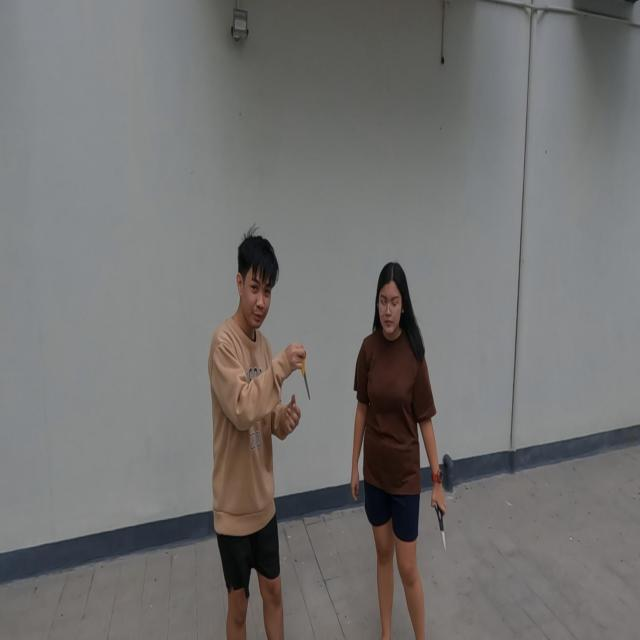scissor: (434, 501, 447, 552), (301, 347, 310, 400)
